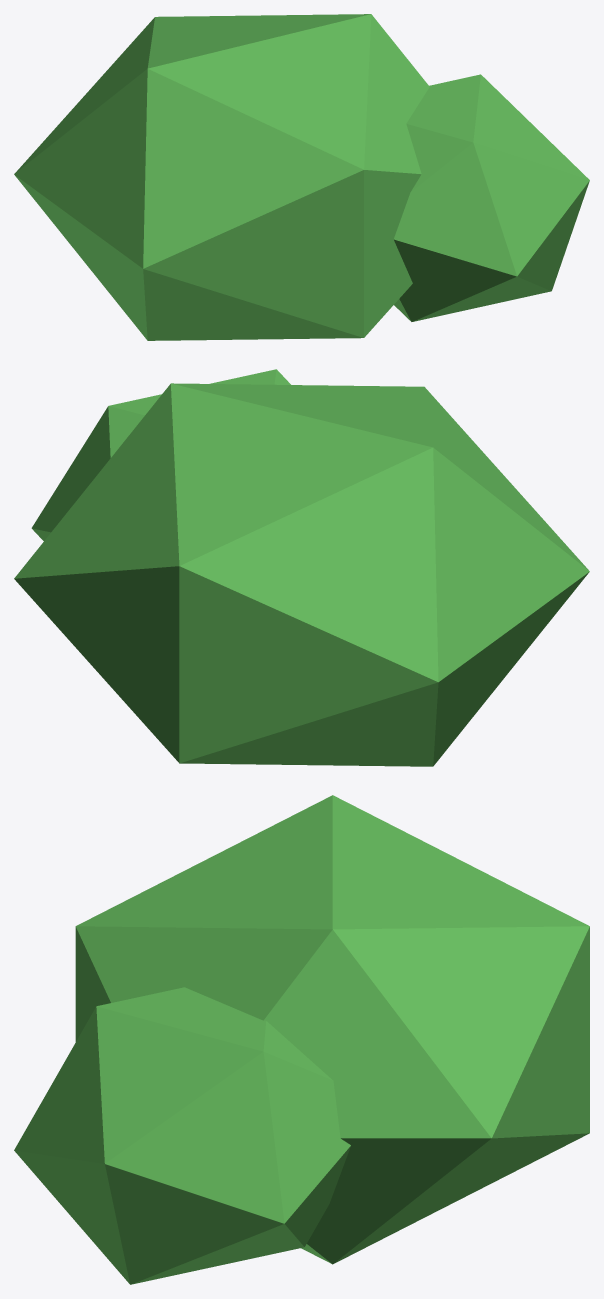
Rendered from bush.glb.
3 views of the same model, one above another, from view 1: azimuth 30°, elevation 25°; view 2: azimuth 150°, elevation 25°; view 3: azimuth 270°, elevation 25° (orthographic). The views are drawn at different scales.
Parts seen in each view (by area): view 1: bush_0; view 2: bush_0; view 3: bush_0.
Boxes of the visible parts, x1=… form: bush_0: x1=14, y1=14, x2=589, y2=340; bush_0: x1=14, y1=369, x2=589, y2=766; bush_0: x1=14, y1=795, x2=589, y2=1284.
Size of the model in its own units: 1.62 by 0.9782 by 1.52.
